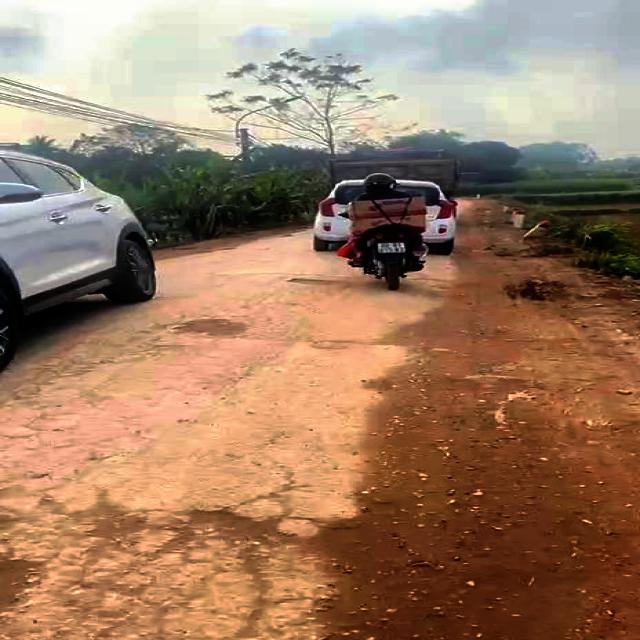pothole: (73, 493, 374, 573), (165, 314, 247, 340), (283, 275, 342, 290)
